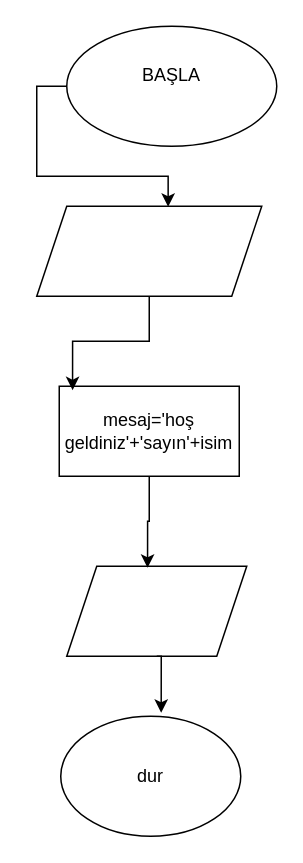
Some shapes in this 303 by 863 pixel diagram are drawn without their labels. Each missing label, with the box of its shape:
ekrana mesaj yazdır: (65, 565, 247, 656)
KULLANICISAN "İSİM" VERİSİNİ AL: (35, 205, 262, 296)
